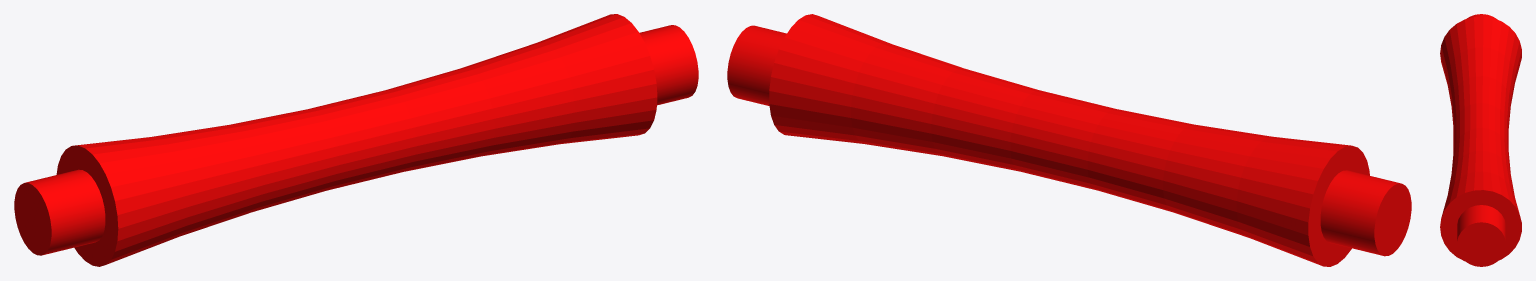
The picture shows the model from 3 angles, left to right: view 1: azimuth 30°, elevation 25°; view 2: azimuth 150°, elevation 25°; view 3: azimuth 270°, elevation 25°; orthographic projection. The views are drawn at different scales.
Visible parts, largest first — view 1: RolikWE353; view 2: RolikWE353; view 3: RolikWE353.
Part boxes in pixels (x1=…): RolikWE353: x1=14, y1=14, x2=698, y2=266; RolikWE353: x1=727, y1=14, x2=1411, y2=266; RolikWE353: x1=1440, y1=14, x2=1521, y2=266.
Size of the model in its own units: 0.12 by 0.02 by 0.0199.
